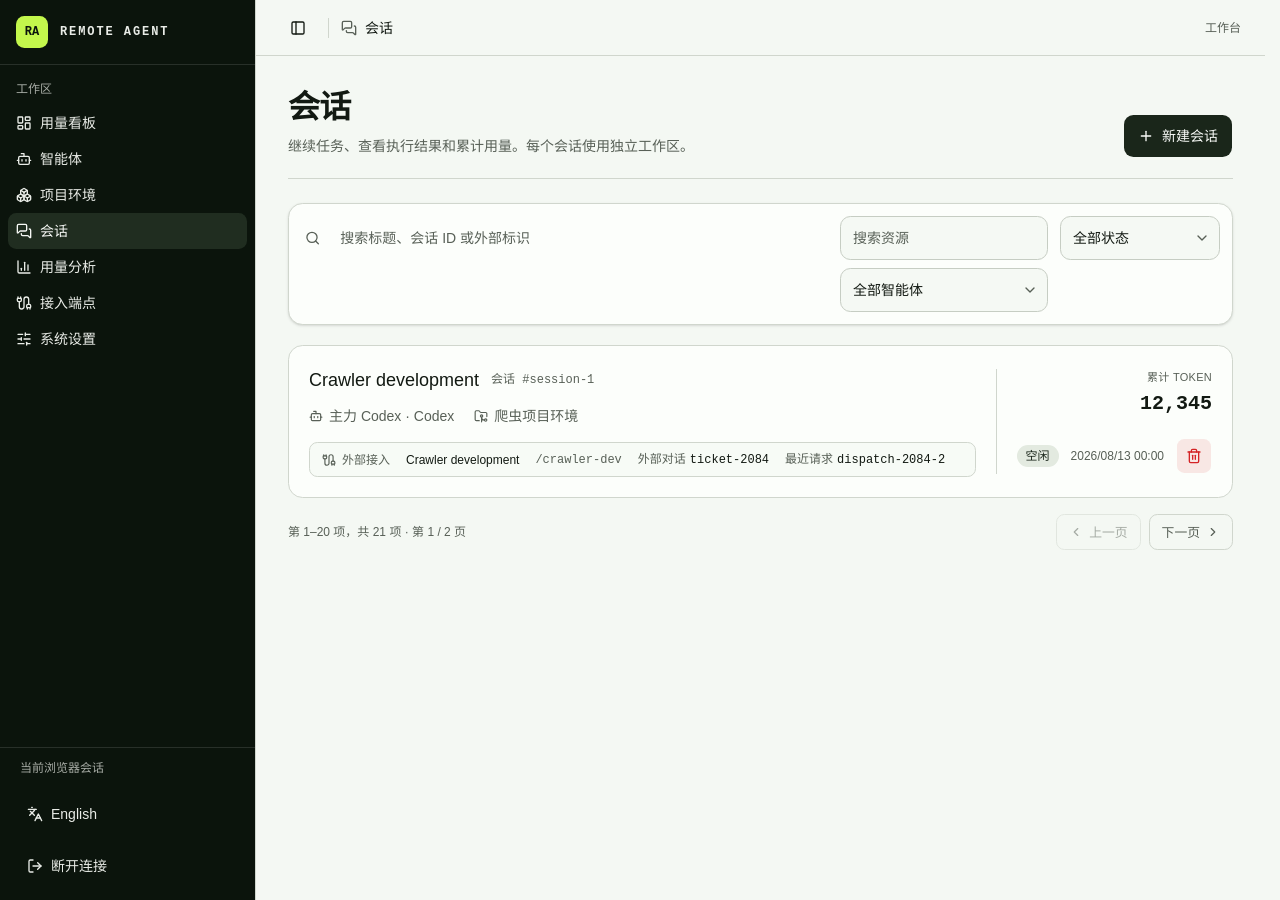
Test: 列表支持翻页并把搜索交给服务端
Check: the text "第 1–20 项，共 21 项 · 第 1 / 2 页" is shown, box [288,524,466,540]
Click the button "下一页". click: click(1191, 532)
box: [1149,514,1233,550]
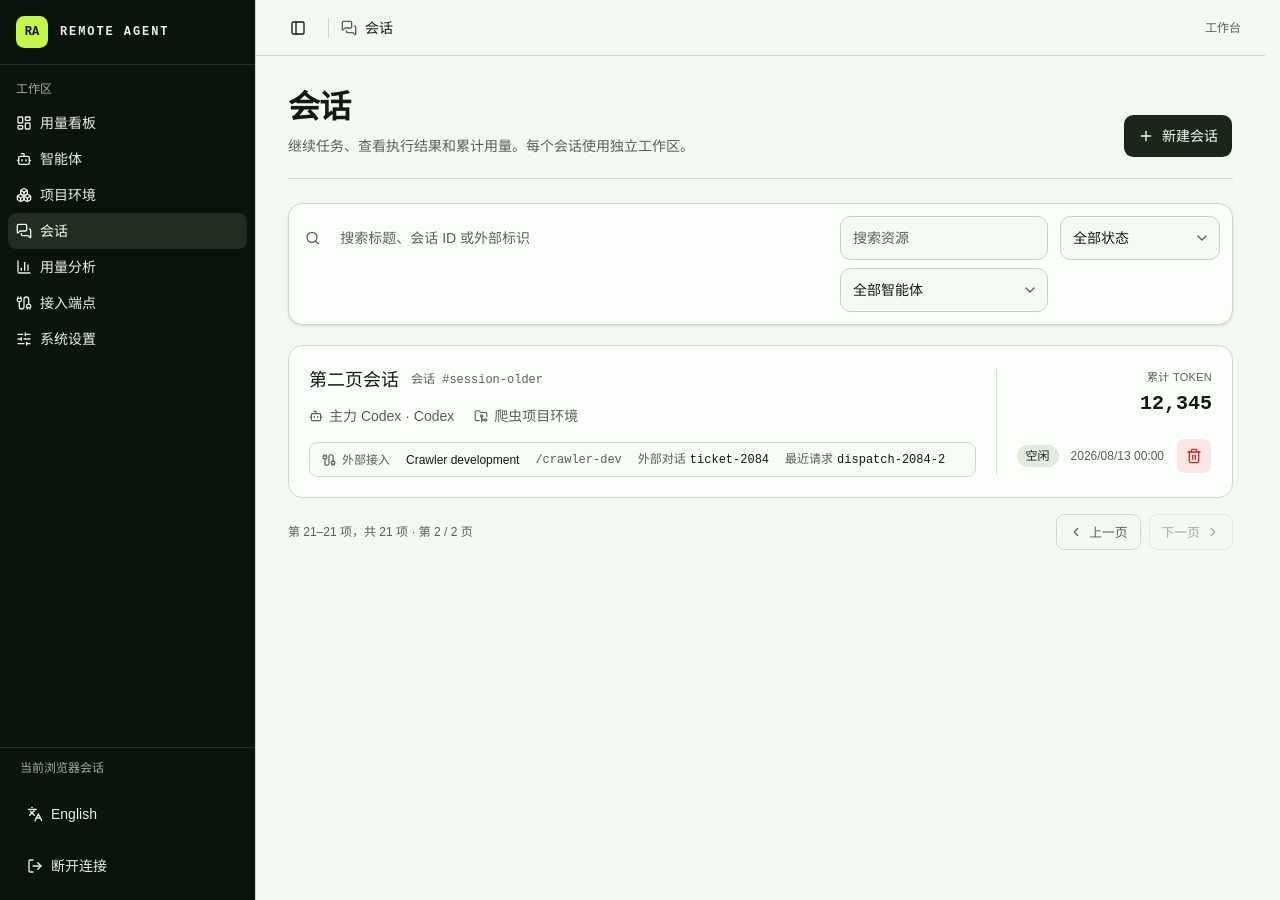
Check: the link "第二页会话" is shown, box [309,370,399,390]
Type "ticket-2084" into the search field named "搜索会话". click: (576, 238)
box: [328,216,824,260]
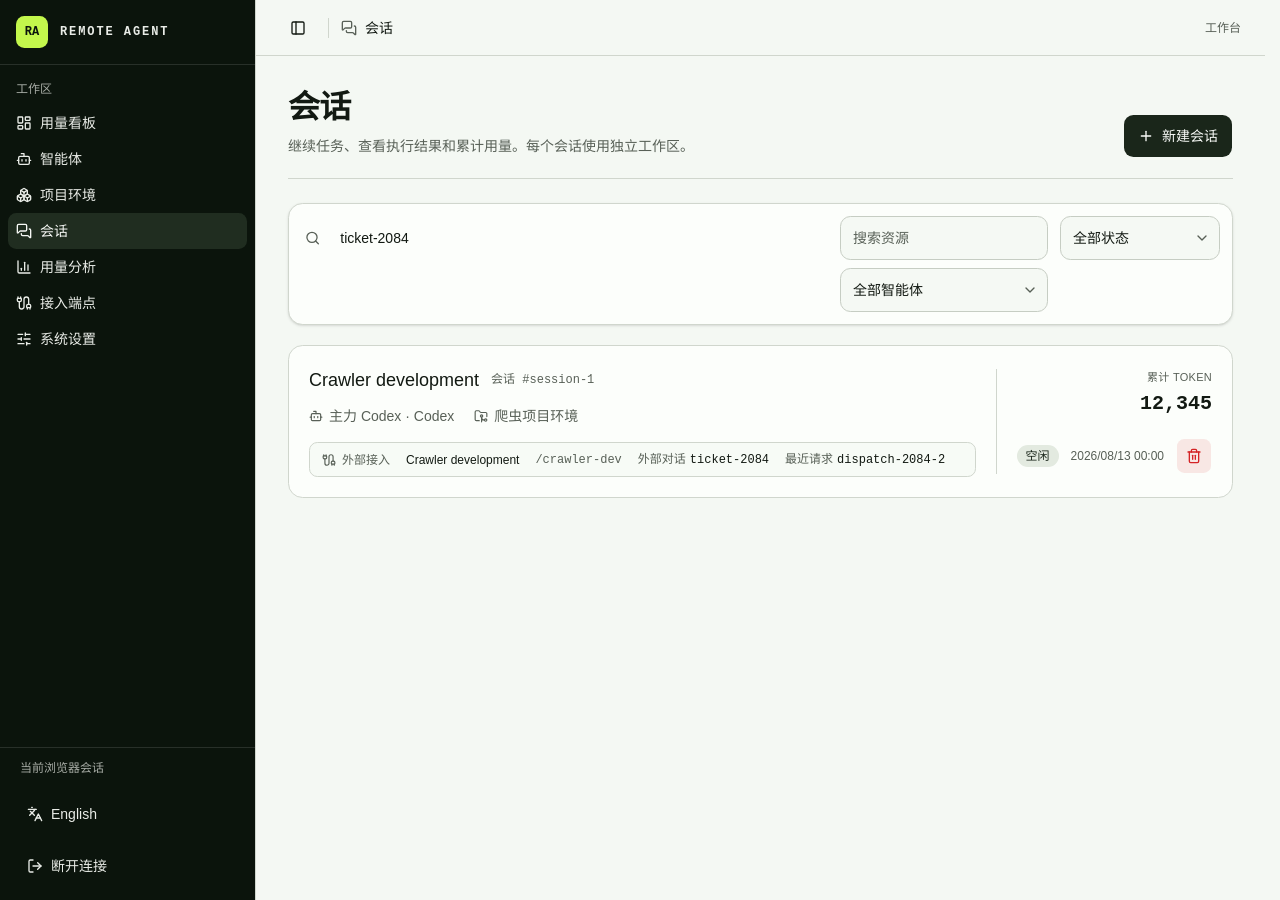
Check: the link "Crawler development" next to "会话 #session-1" is shown, box [309,370,479,390]
